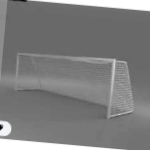goals: (14, 51, 137, 122)
